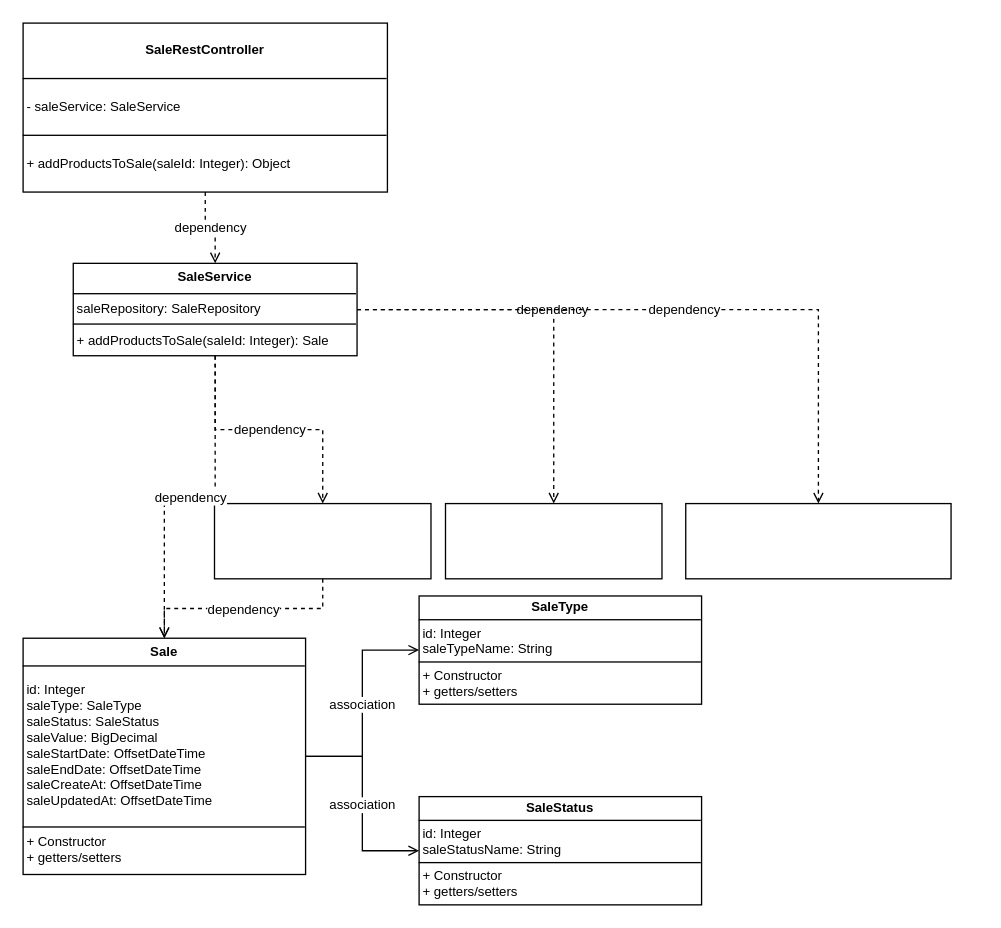
This 1001x928 diagram has some shape labels left out. The shapes that lost their labels are listed below. From the top down, each one's centre as x and y in pixels, then its label:
At point (322, 540): "SaleRepository + findById(saleId: Integer): Sale".
At point (553, 540): "ProductRepository + findById(productId: Integer): Product".
At point (817, 540): "SaveProductRepository + SaveAll(saleProductId: List of Product): Product".
